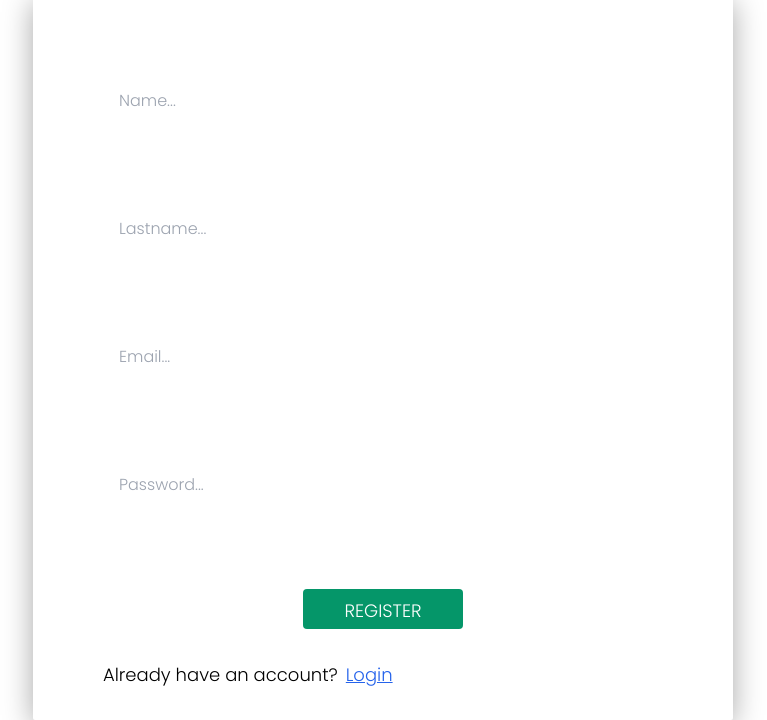
it: Users › Register tests › Register fails if forms data is empty
(page scrolled)
What coordinates should you click on to do the following:
click the button titled "Register button"
I would click on:
 (383, 609)
Its box is [303,589,463,629].
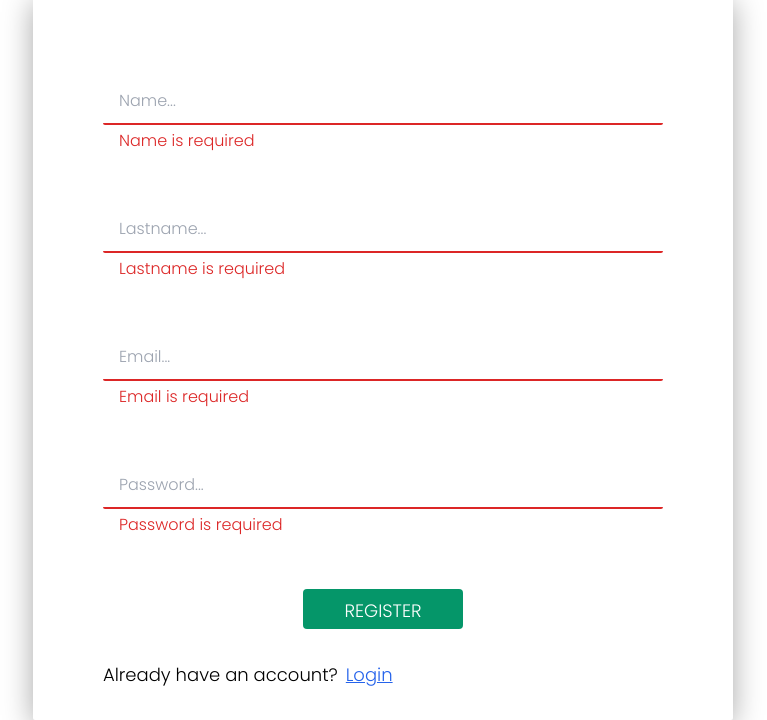
Check: the text "Name is required" is shown, box [119,129,255,152]
Check: the text "Lastname is required" is shown, box [119,257,285,280]
Check: the text "Email is required" is shown, box [119,385,249,408]
